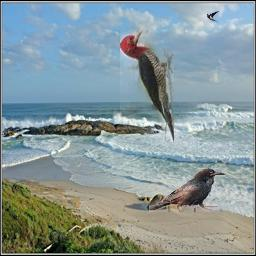Crow: (149, 168, 225, 212)
Swallow: (207, 11, 219, 23)
Woodpecker: (120, 26, 174, 142)
